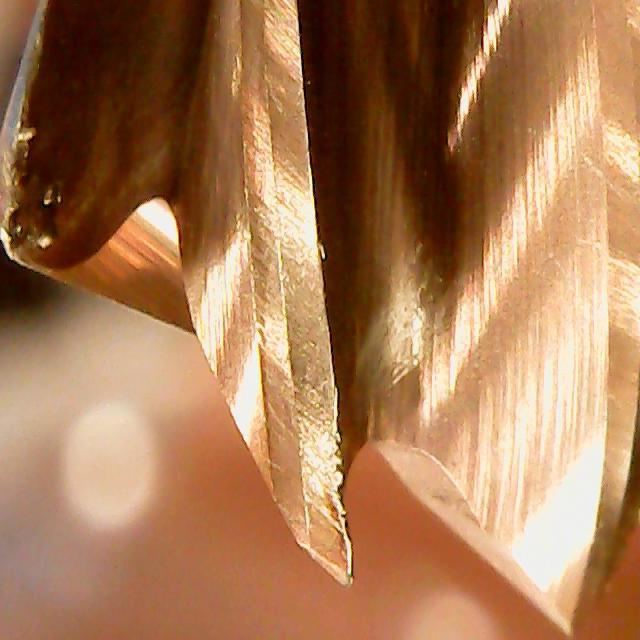Tool-wear-class-1: (196, 268, 382, 593)
